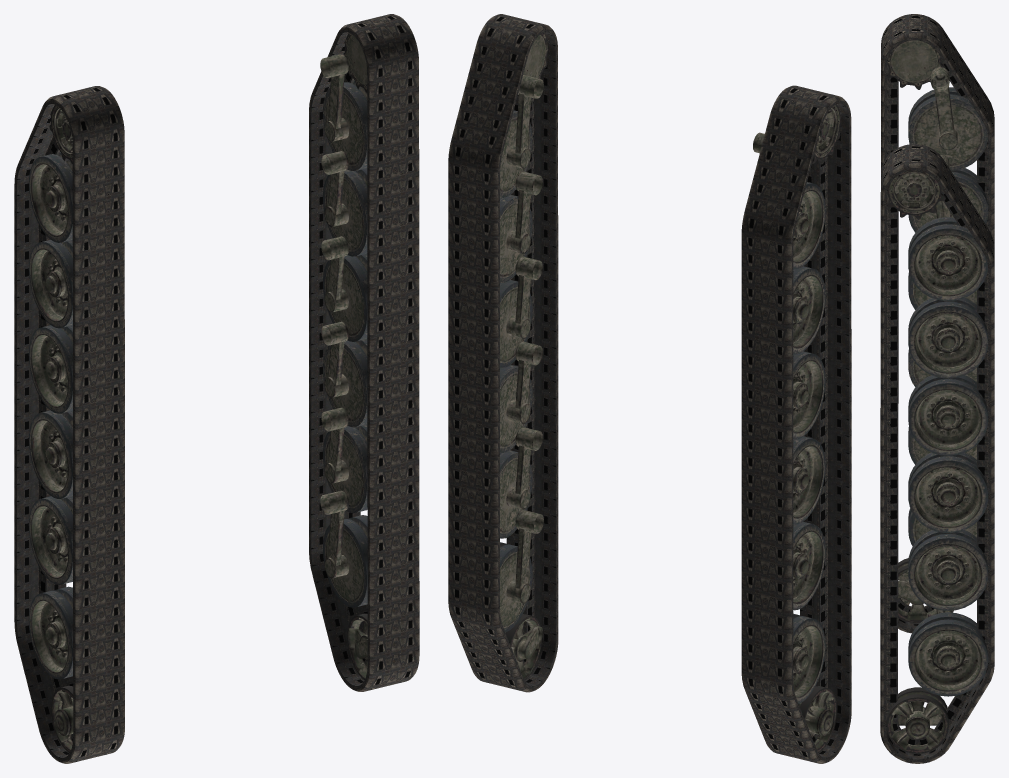
File: Chassis.glb
3 views of the same model, side by side, from view 1: azimuth 30°, elevation 25°; view 2: azimuth 150°, elevation 25°; view 3: azimuth 270°, elevation 25° (orthographic). The views are drawn at different scales.
Visible parts, largest first — view 1: set_0_group_0, set_1_group_0, set_3_group_0, set_2_group_0; view 2: set_0_group_0, set_1_group_0, set_3_group_0, set_2_group_0; view 3: set_3_group_0, set_1_group_0, set_2_group_0, set_0_group_0.
Part boxes in pixels (bbox=[...]): set_0_group_0: bbox=[14, 86, 124, 763]; set_1_group_0: bbox=[309, 14, 419, 691]; set_3_group_0: bbox=[320, 32, 367, 679]; set_2_group_0: bbox=[28, 104, 73, 752]; set_0_group_0: bbox=[741, 85, 851, 763]; set_1_group_0: bbox=[448, 14, 558, 692]; set_3_group_0: bbox=[500, 33, 547, 680]; set_2_group_0: bbox=[753, 104, 840, 752]; set_3_group_0: bbox=[886, 170, 988, 753]; set_1_group_0: bbox=[880, 144, 994, 763]; set_2_group_0: bbox=[887, 40, 988, 622]; set_0_group_0: bbox=[880, 14, 994, 633].
Size of the model in its own units: 3.13 by 5.77 by 0.9973.
Materials: 4 (4 with a texture image).
